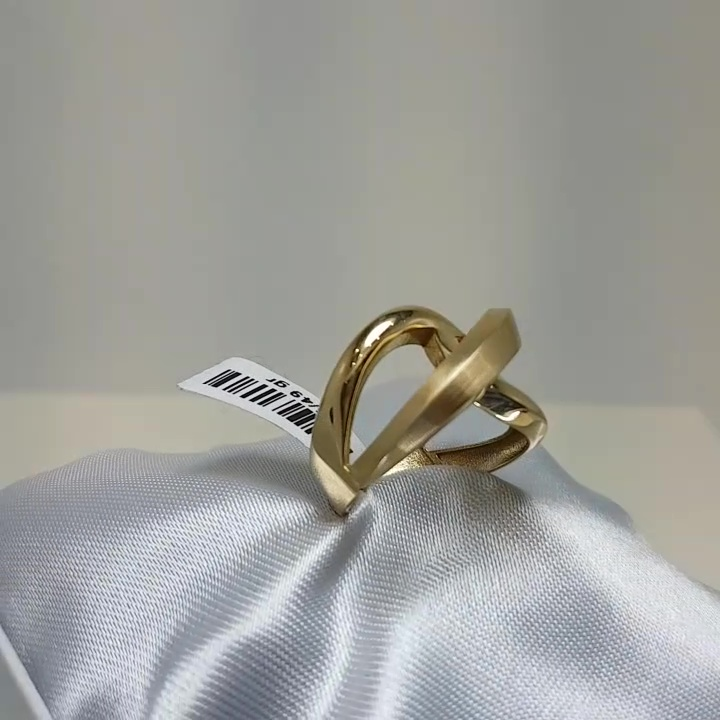Ring 3: (296, 292, 546, 532)
